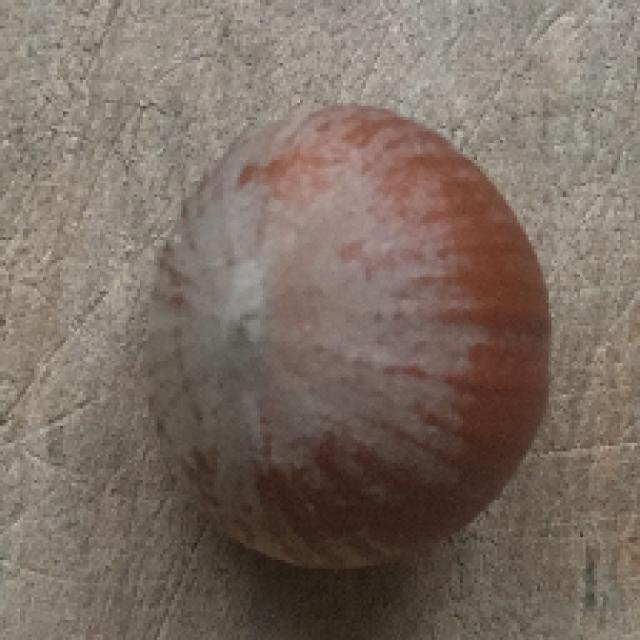QualityHazelnut: (145, 100, 554, 566)
